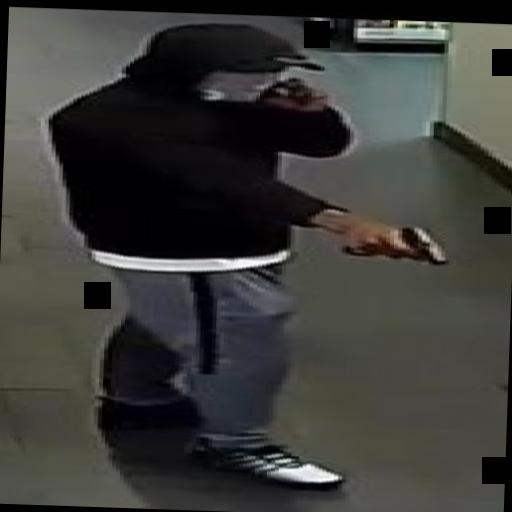Handgun: (330, 217, 454, 265)
